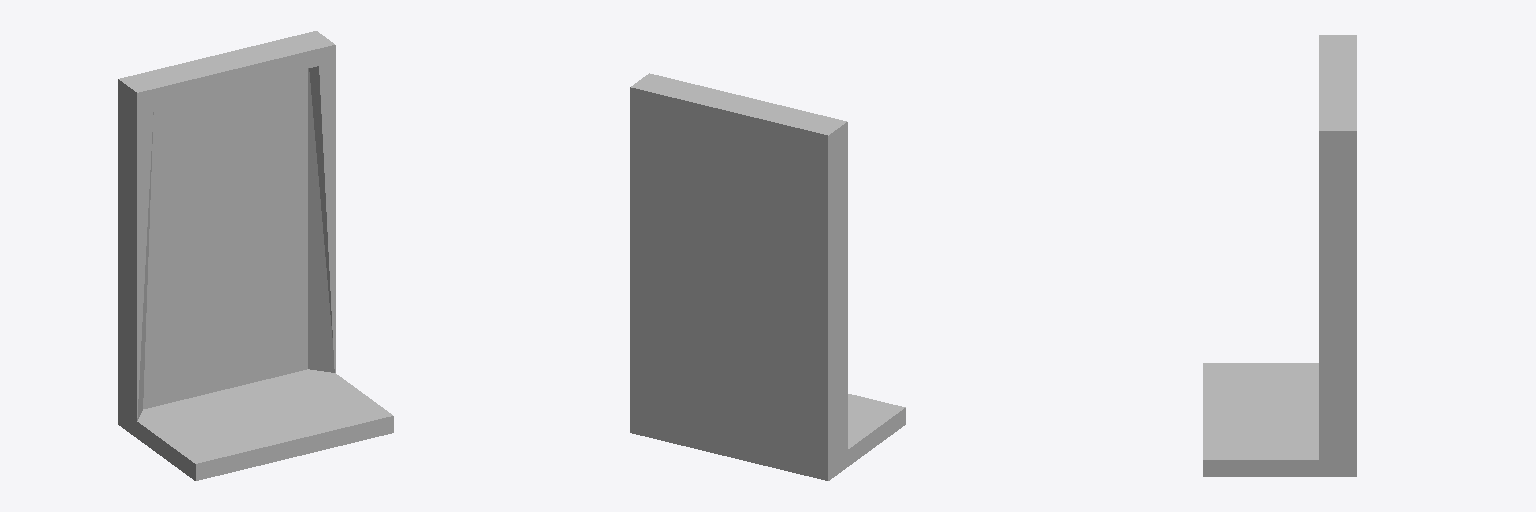
Rendered from comp_window_2.obj.
3 renders of one model, left to right at view 1: azimuth 30°, elevation 25°; view 2: azimuth 150°, elevation 25°; view 3: azimuth 270°, elevation 25°, orthographic.
Visible parts, largest first — view 1: pCube2; view 2: pCube2; view 3: pCube2.
Boxes of the visible parts, box(x1,y1,x2,y2) form: pCube2: box(118, 31, 393, 480); pCube2: box(630, 73, 905, 480); pCube2: box(1203, 35, 1356, 476).
Bounding box in the file's own units: 1.2 × 2 × 0.8102.